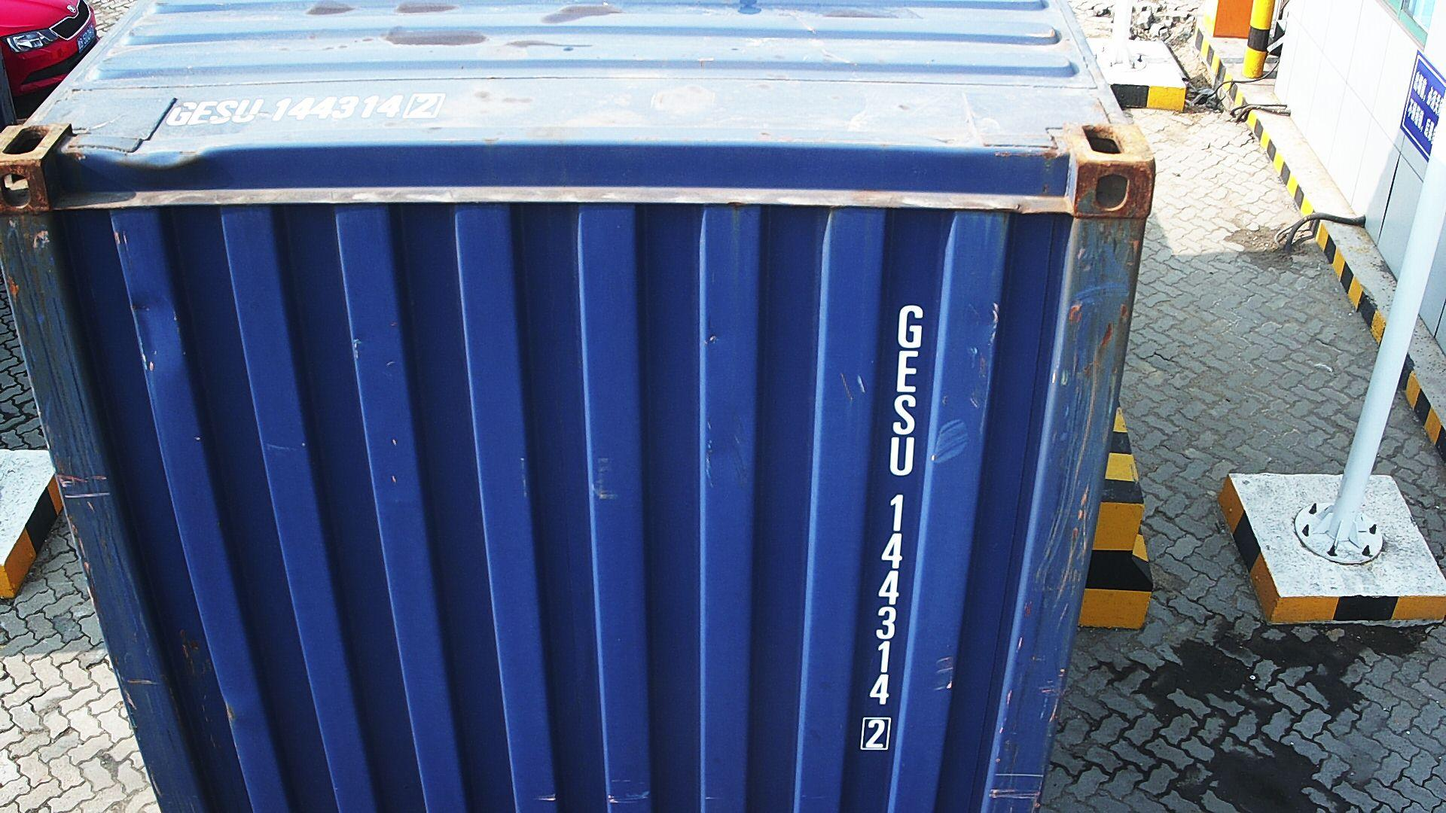container-numbers: (859, 297, 925, 754), (156, 91, 455, 129)
